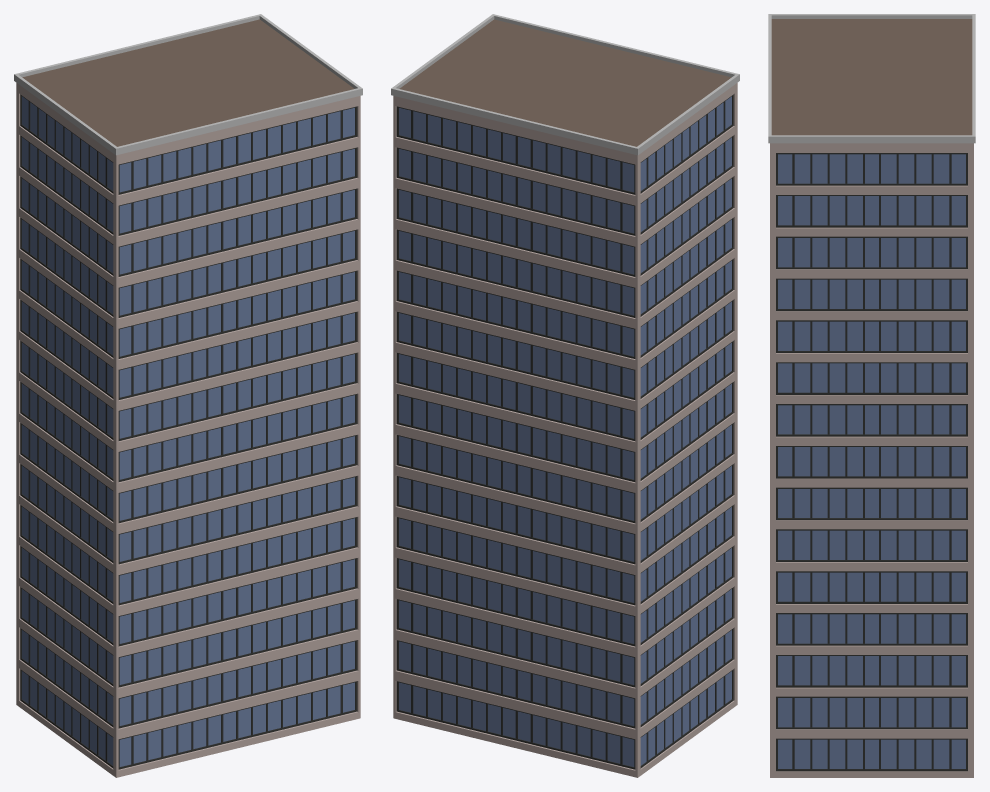
The model's file is LargeBuilding_04.fbx.
3 views of the same model, side by side, from view 1: azimuth 30°, elevation 25°; view 2: azimuth 150°, elevation 25°; view 3: azimuth 270°, elevation 25° (orthographic).
Parts seen in each view (by area): view 1: LargeBuilding_04; view 2: LargeBuilding_04; view 3: LargeBuilding_04.
Boxes of the visible parts, x1=… form: LargeBuilding_04: x1=14, y1=14, x2=362, y2=777; LargeBuilding_04: x1=391, y1=14, x2=739, y2=777; LargeBuilding_04: x1=768, y1=14, x2=975, y2=777.
Bounding box in the file's own units: 20.57 × 50.15 × 14.7.
